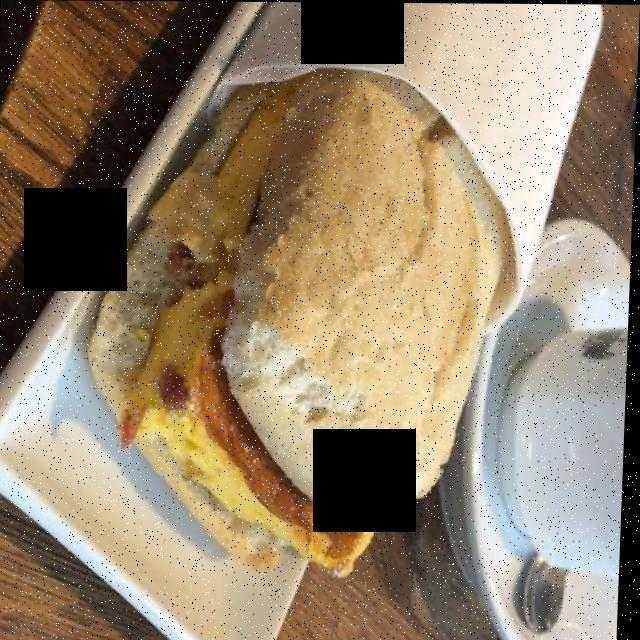bread: (296, 79, 448, 500)
sandwich: (75, 28, 522, 589)
